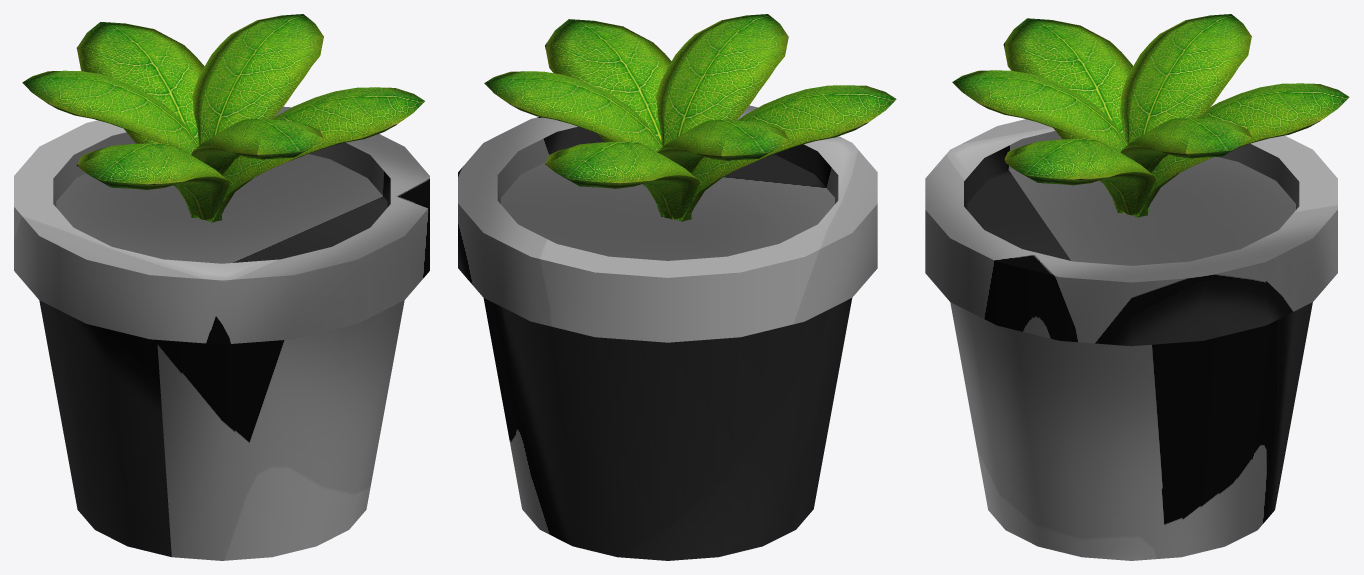
The model's file is FlowerPot7.FBX.
3 renders of one model, left to right at view 1: azimuth 30°, elevation 25°; view 2: azimuth 150°, elevation 25°; view 3: azimuth 270°, elevation 25°, orthographic.
Visible parts, largest first — view 1: flowerpot005, plant4; view 2: flowerpot005, plant4; view 3: flowerpot005, plant4.
Part boxes in pixels (box(x1,y1,x2,y2)): flowerpot005: box(14, 106, 429, 560); plant4: box(22, 14, 424, 222); flowerpot005: box(458, 105, 877, 560); plant4: box(484, 14, 896, 221); flowerpot005: box(925, 119, 1337, 560); plant4: box(952, 14, 1349, 217).
Bounding box in the file's own units: 8.36 × 9.19 × 8.47.
Materials: 2 (2 with a texture image).
